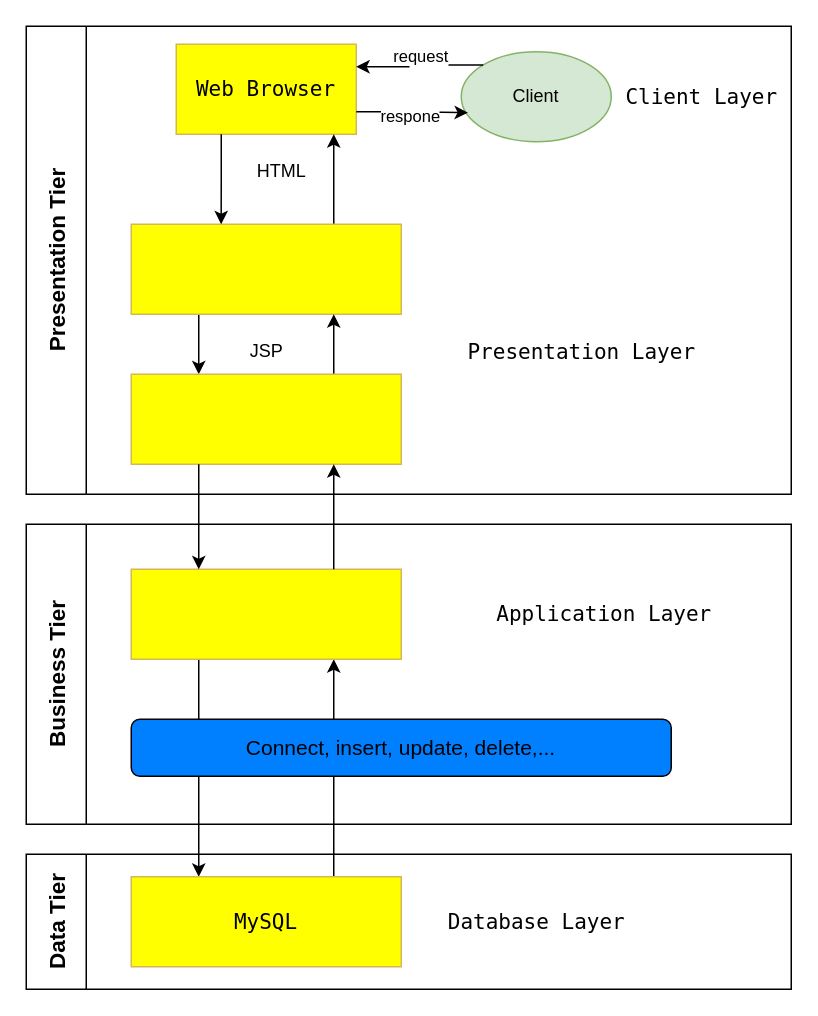
This 818x1016 diagram has some shape labels left out. Each missing label, with the centre of its shape:
"(Apache) Web Server" goes at point (265, 268).
"Servlet" goes at point (265, 613).
"Servlet Container" goes at point (265, 418).
